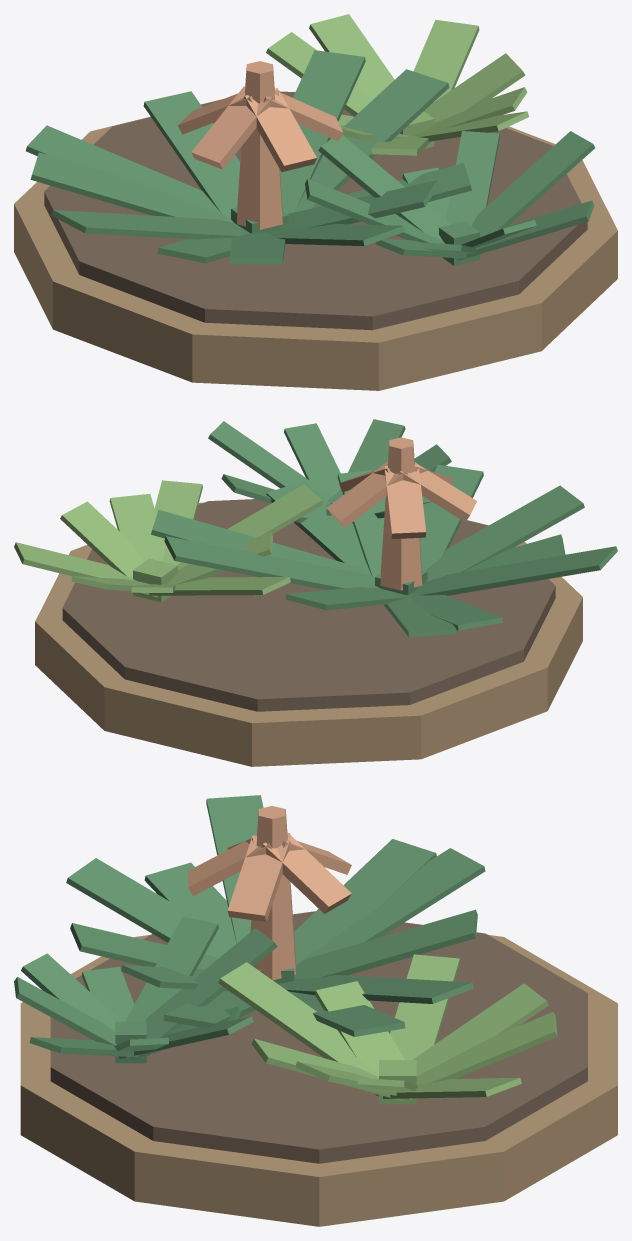
Rendered from botanical-glasshouse-and-palm-house-botanical-glasshou-38208b14__38582.glb.
The picture shows the model from 3 angles, top to bottom: view 1: azimuth 30°, elevation 25°; view 2: azimuth 150°, elevation 25°; view 3: azimuth 270°, elevation 25°; orthographic projection. The views are drawn at different scales.
Visible parts, largest first — view 1: botanical-glasshouse-and-palm-house-bromeliad-set; view 2: botanical-glasshouse-and-palm-house-bromeliad-set; view 3: botanical-glasshouse-and-palm-house-bromeliad-set.
Boxes of the visible parts, x1,y1,x2,y2 form: botanical-glasshouse-and-palm-house-bromeliad-set: [14, 14, 617, 390]; botanical-glasshouse-and-palm-house-bromeliad-set: [14, 419, 617, 766]; botanical-glasshouse-and-palm-house-bromeliad-set: [14, 795, 617, 1226].
Bounding box in the file's own units: 0.8454 × 0.34 × 0.7693.
